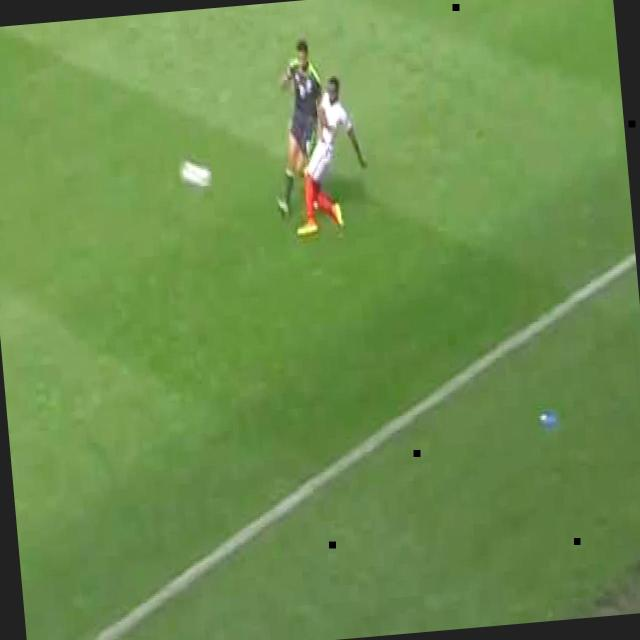ball: (179, 158, 214, 192)
player-white: (283, 74, 372, 239), (264, 34, 333, 218)
